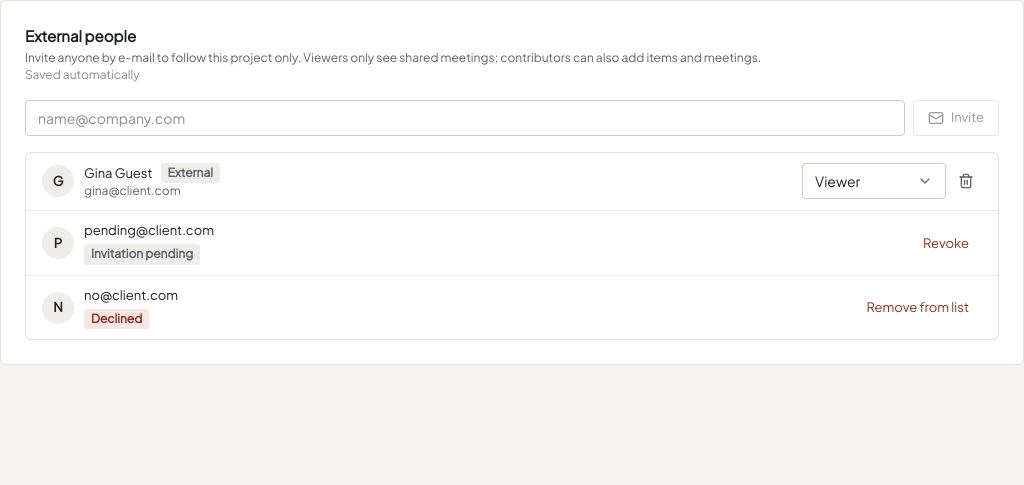
Test: ExternalPeopleSection (Story 12.15) › invites by e-mail and shows the link to copy
Type "new@client.com" into the field named "Person's e-mail" at {"x": 465, "y": 118}, box [25, 100, 905, 136]
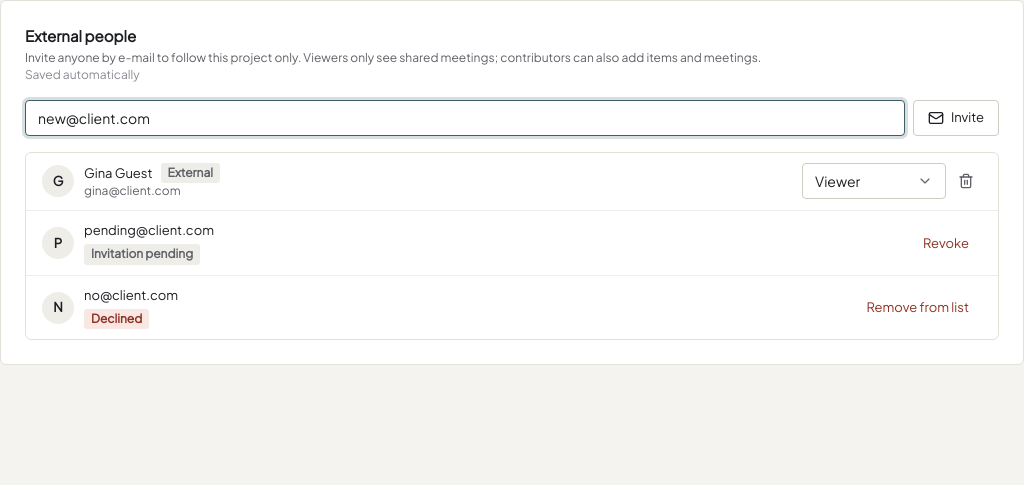
Click the button "Invite" at {"x": 956, "y": 118}, box [913, 100, 999, 136]
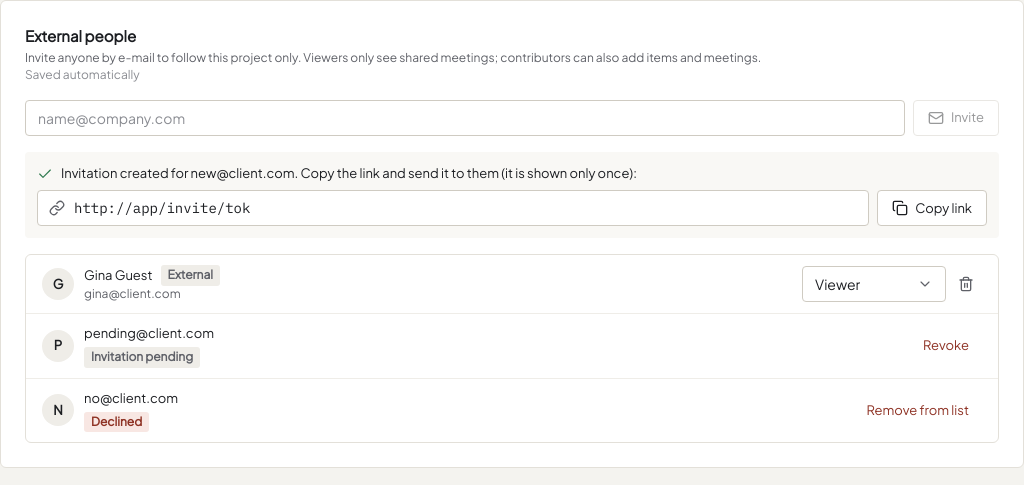
Now the field named "Invitation link" holds "http://app/invite/tok", box [37, 190, 869, 226]
Now the message shows "new@client.com", box [61, 165, 637, 181]
